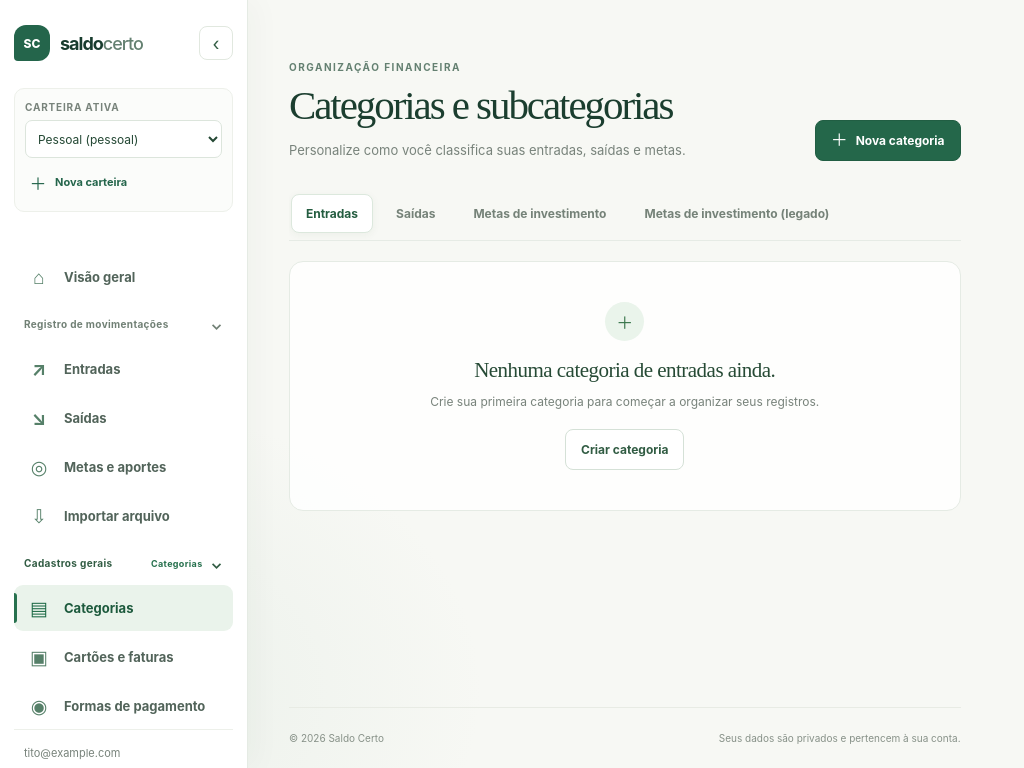
Test: CategoriesPage duplicate names › preserves category-creation success when refreshing the list fails
The width and height of the screenshot is (1024, 768).
Expected: the dropdown labelled "Carteira ativa" is shown, [25,120,222,158]
Click the button "＋ Nova categoria" at point(888, 141), box [815,120,961,161]
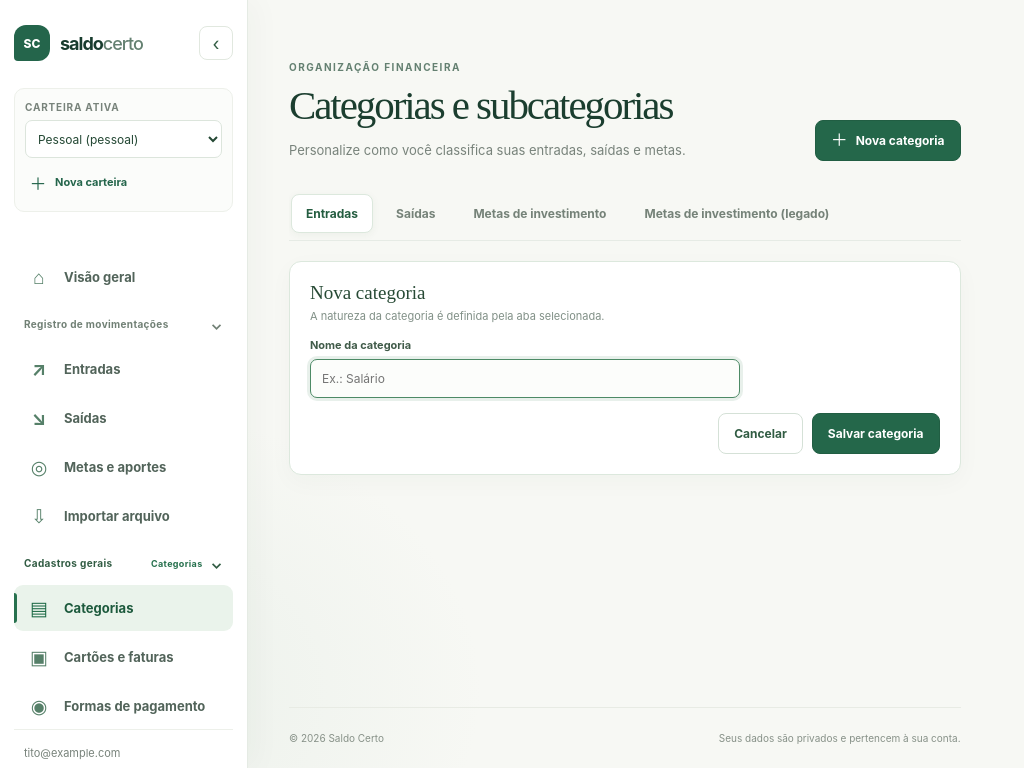
Type "Trabalho" into the field labelled "Nome da categoria" at point(525, 379), box [310,359,740,398]
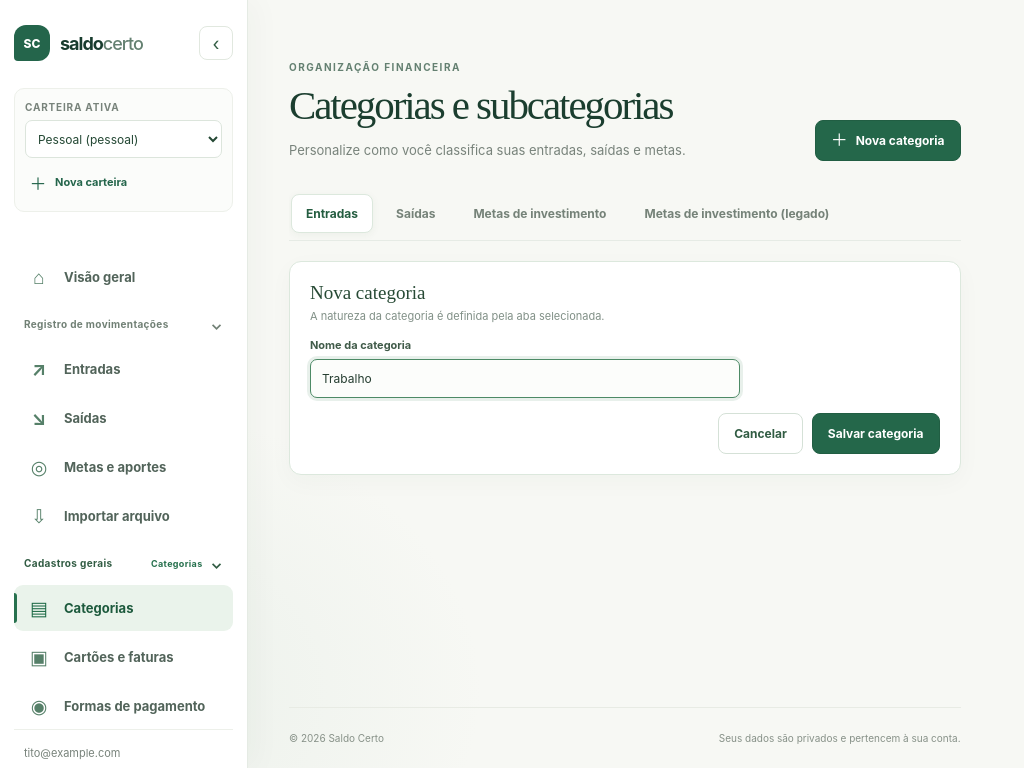
Click the button "Salvar categoria" at point(876, 434), box [812,413,940,454]
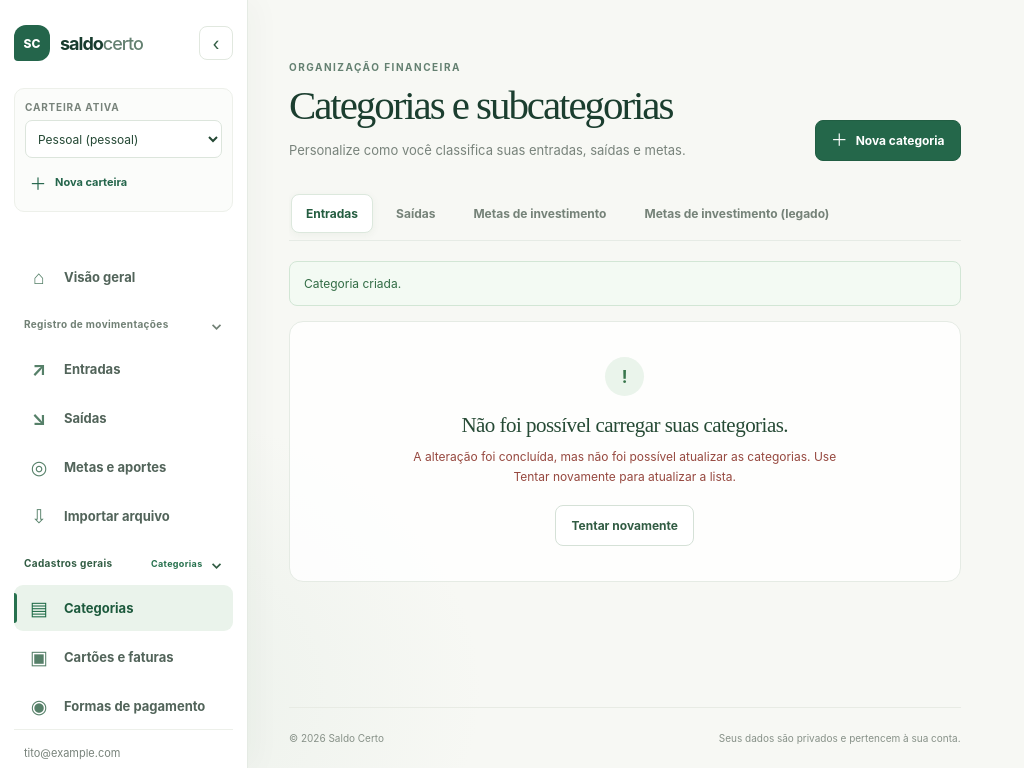
Expected: the message "Categoria criada." is shown, [289,261,961,306]
Expected: the 2nd message shows "A alteração foi concluída, mas não foi possível atualizar as categorias", [413,449,836,484]
